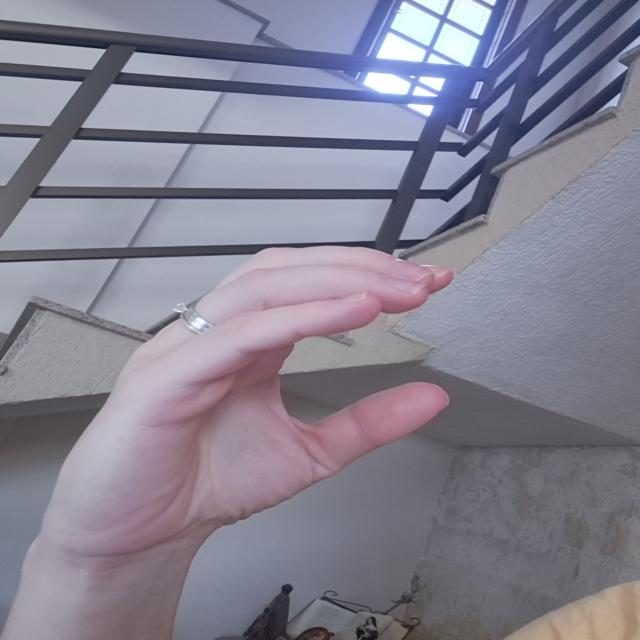C: (60, 240, 465, 534)
